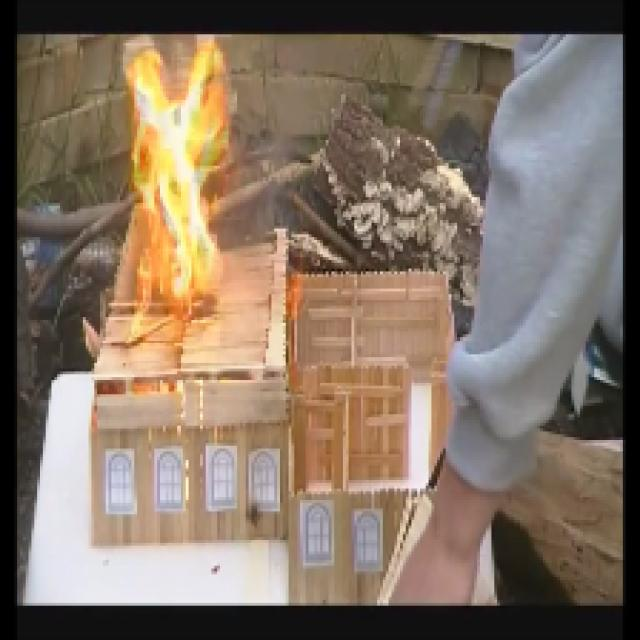fire: (116, 42, 225, 294)
